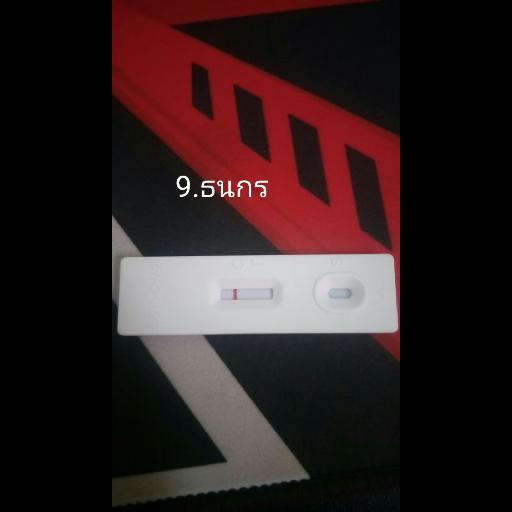Neg: (120, 256, 396, 332)
